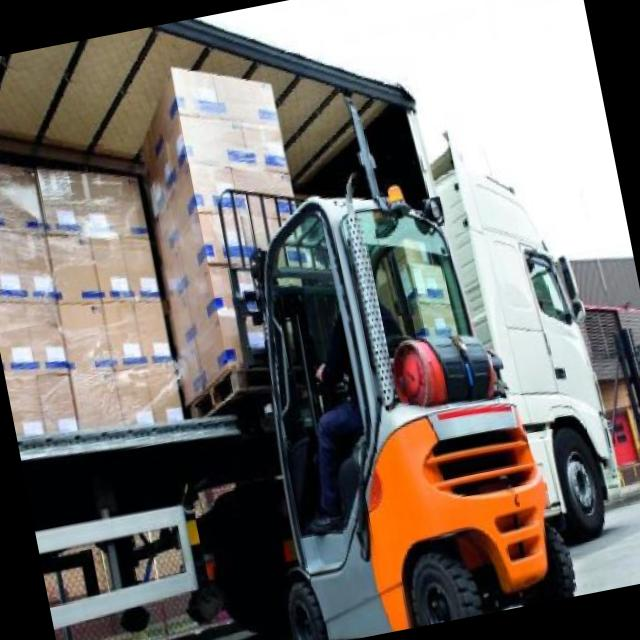forklift: (198, 145, 583, 640)
